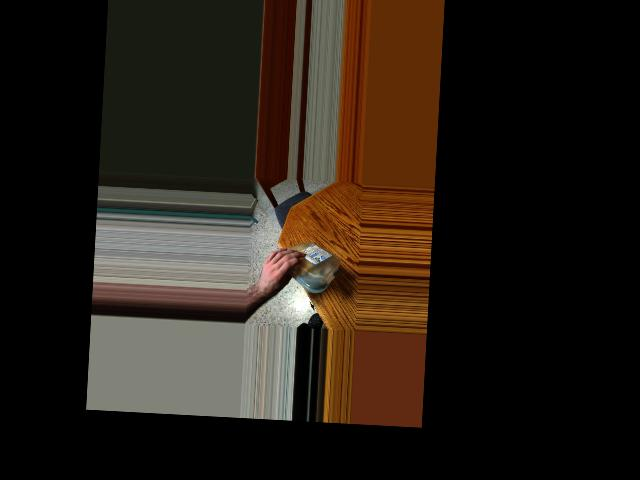cheese: (274, 237, 343, 293)
